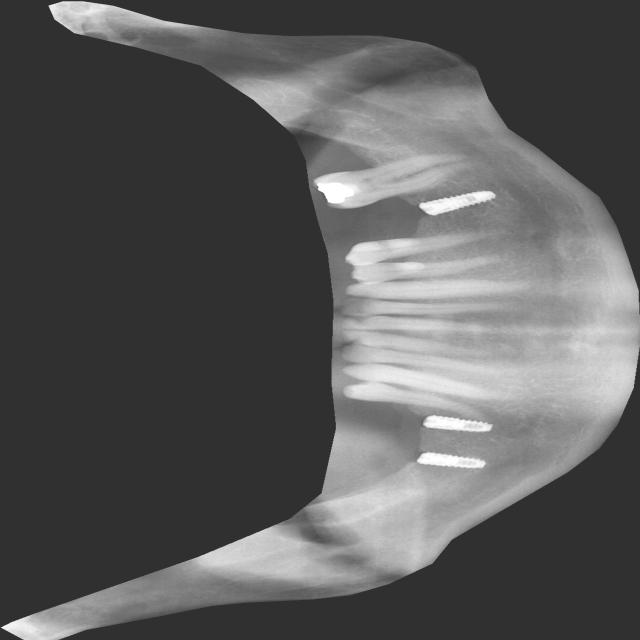mandibula: (1, 0, 640, 640)
